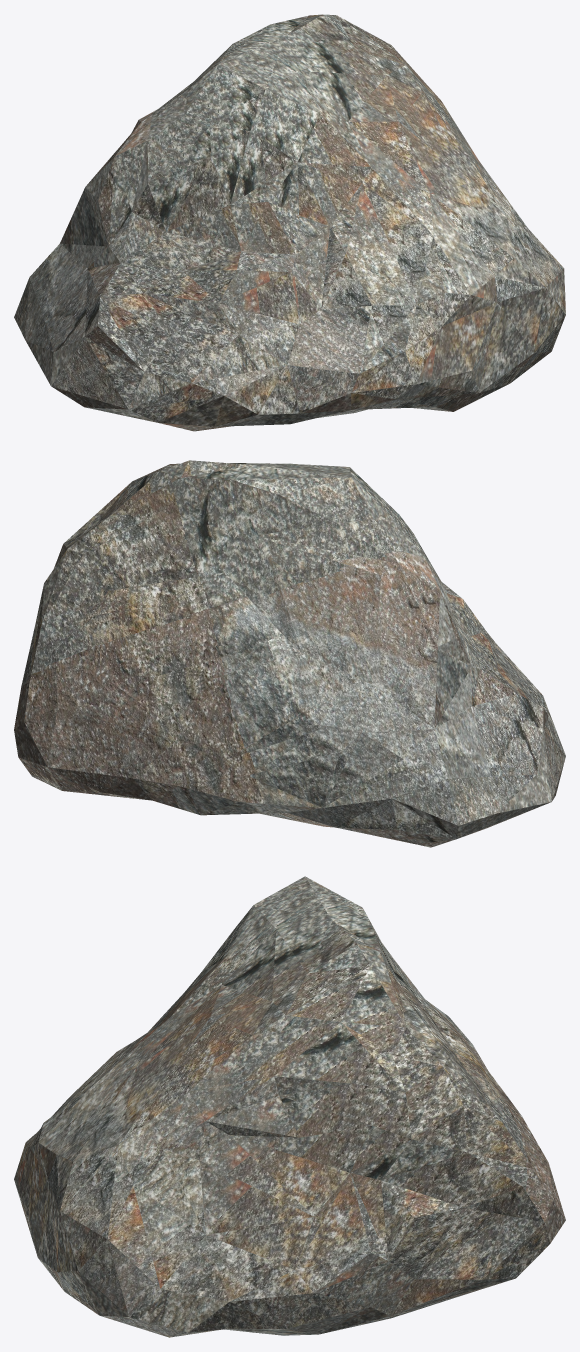
Rendered from Rocks-c.fbx.
3 renders of one model, top to bottom at view 1: azimuth 30°, elevation 25°; view 2: azimuth 150°, elevation 25°; view 3: azimuth 270°, elevation 25°, orthographic. The views are drawn at different scales.
Parts seen in each view (by area): view 1: skp6C9_1; view 2: skp6C9_1; view 3: skp6C9_1.
Boxes of the visible parts, x1,y1,x2,y2 form: skp6C9_1: [14, 14, 565, 431]; skp6C9_1: [14, 460, 565, 847]; skp6C9_1: [14, 876, 565, 1337].
Bounding box in the file's own units: 89.21 × 58.57 × 85.31.
